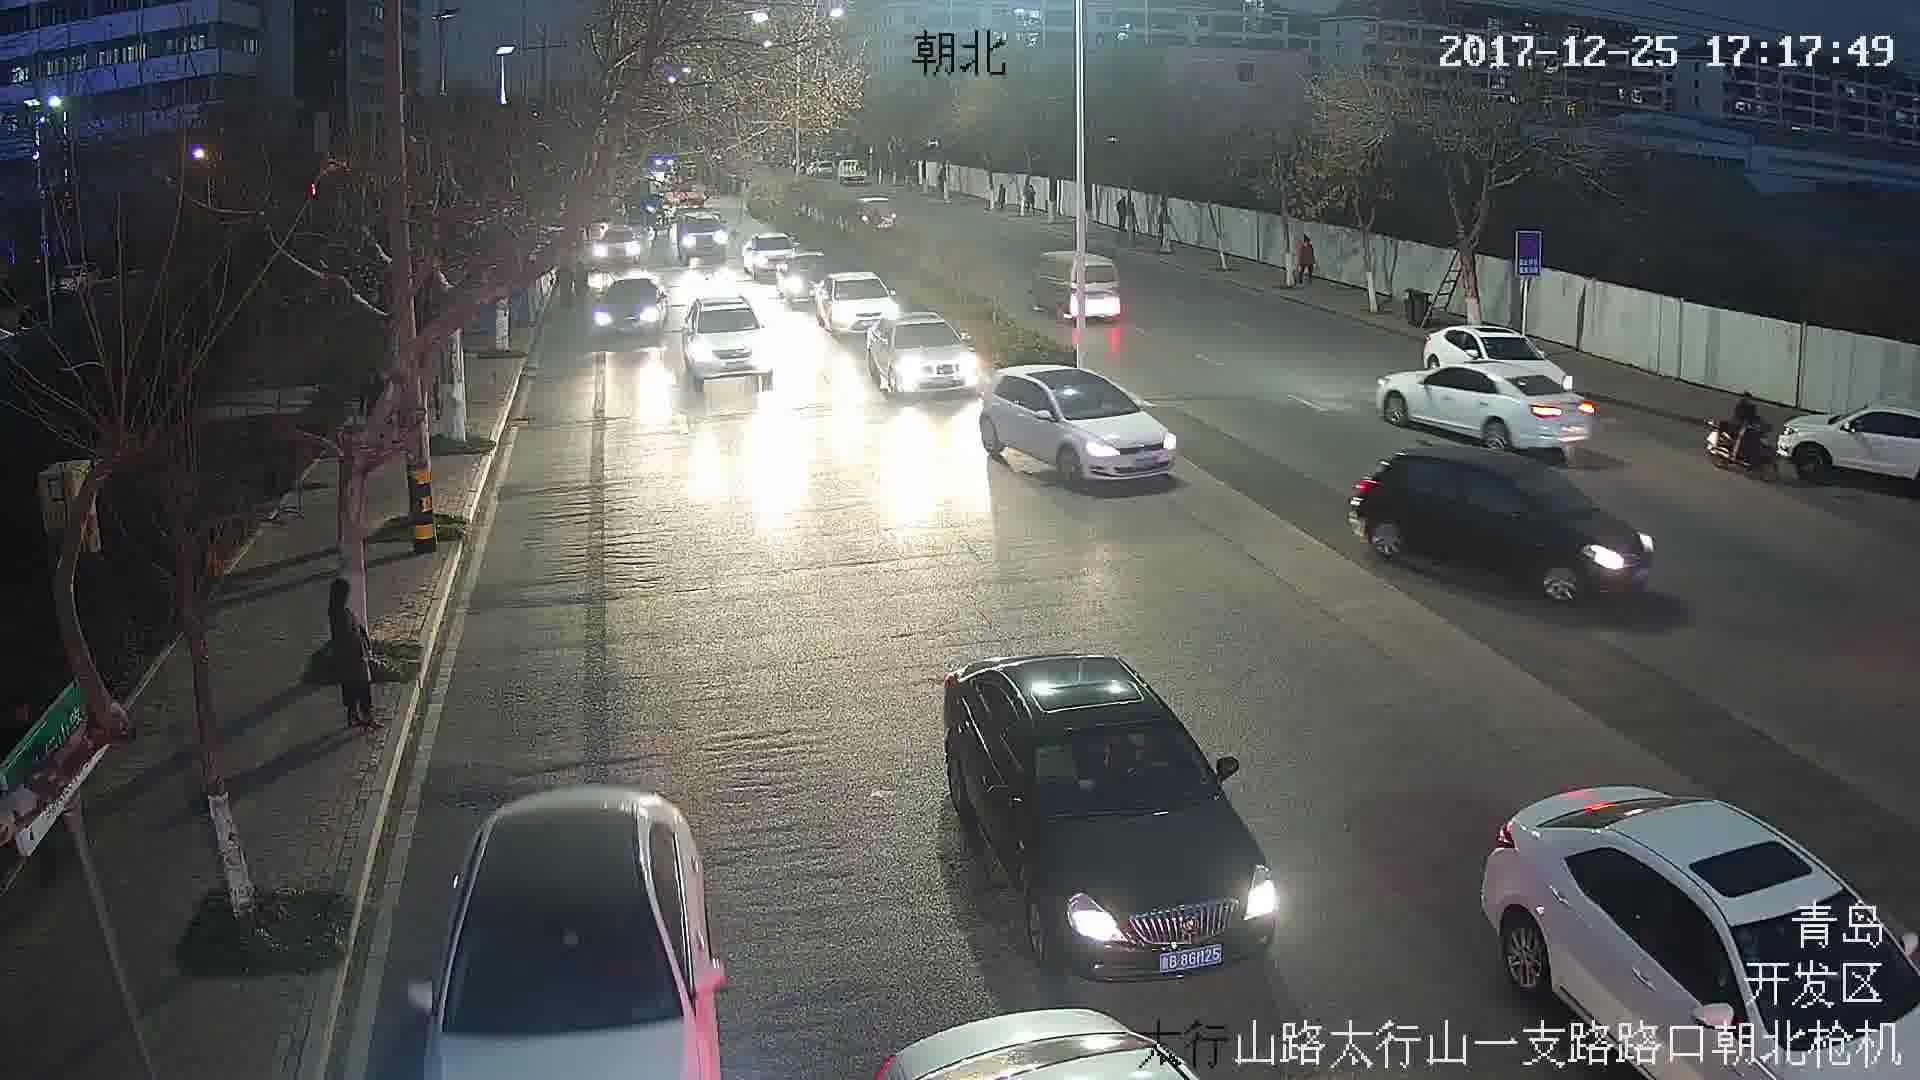car: (943, 649, 1277, 977), (1345, 452, 1657, 612), (977, 364, 1175, 485), (1377, 367, 1592, 452), (860, 314, 980, 395), (673, 298, 771, 387), (1035, 248, 1116, 320), (591, 278, 673, 342), (814, 271, 892, 327), (852, 198, 900, 230)
person: (330, 588, 378, 725), (1727, 388, 1757, 446), (1292, 238, 1317, 288)
